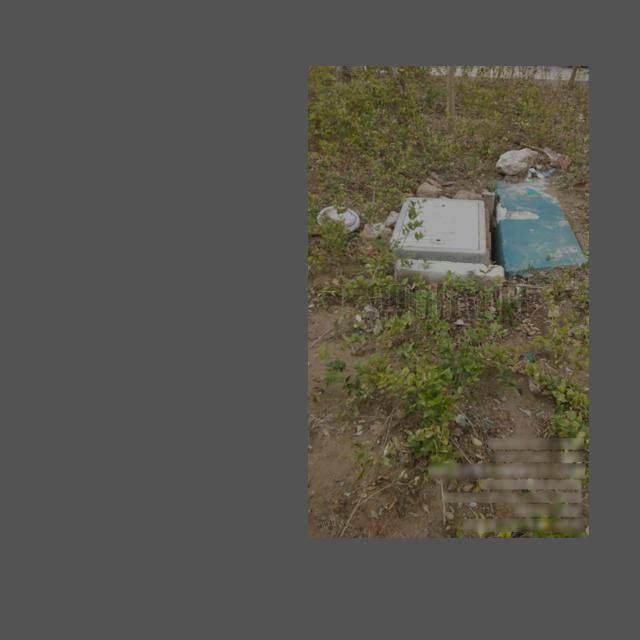circle: (383, 191, 507, 277)
